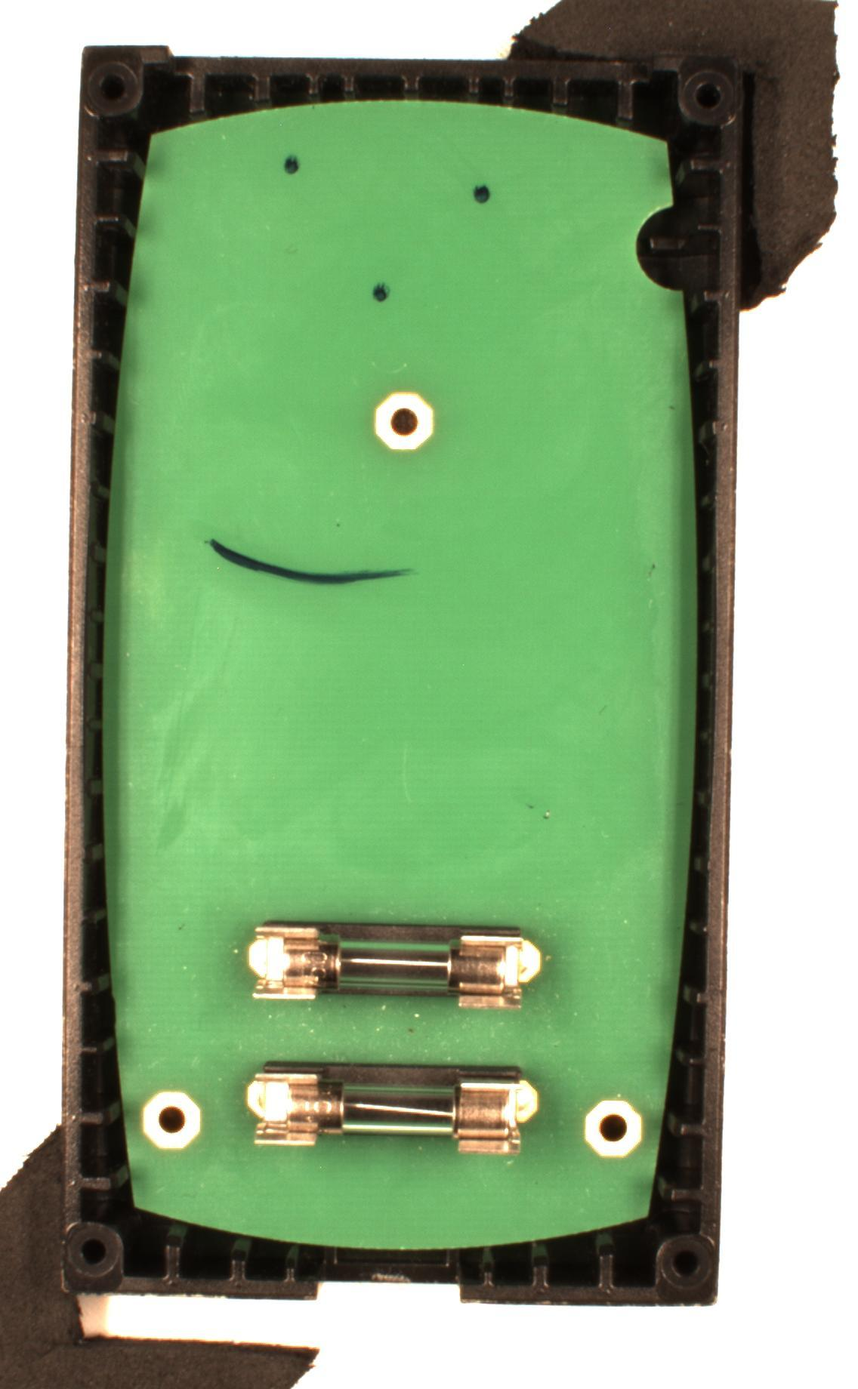Linijsko Ostecene: (204, 533, 417, 592)
Tockasto Ostecenje: (282, 149, 303, 180), (368, 278, 393, 303), (470, 180, 494, 206)
